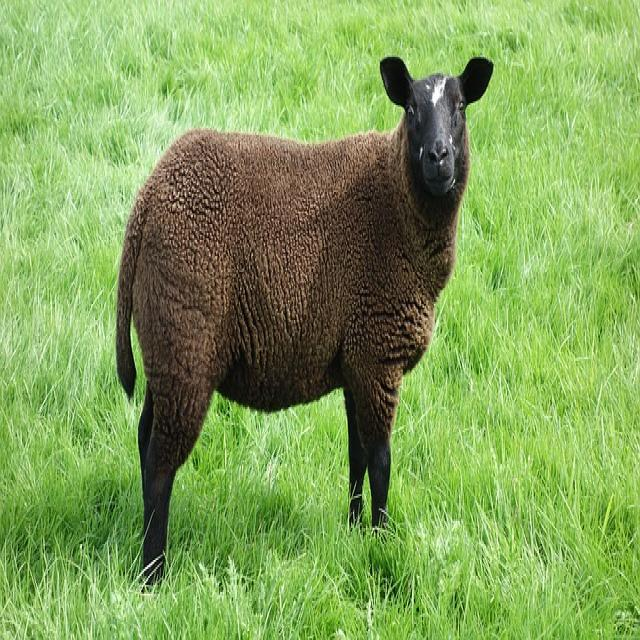goat: (114, 57, 495, 594)
